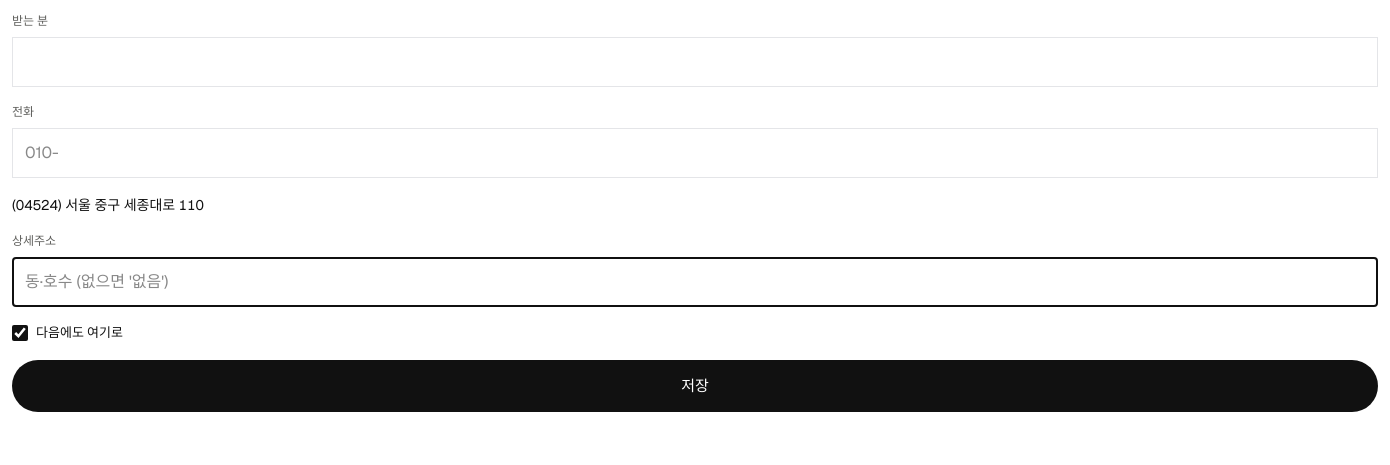
Scenario: AddressForm › 주소 고른 뒤 상세주소 비우고 제출 → 동·호수 안내
The image size is (1390, 465).
Type "미나" into the field labelled "받는 분". click: (695,62)
box: [12,37,1378,87]
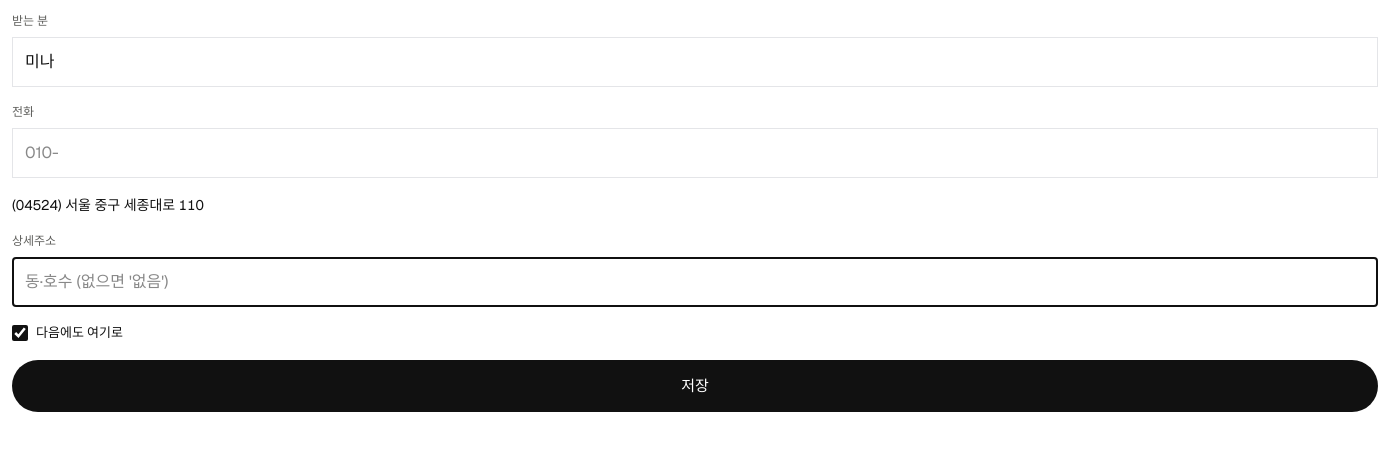
Type "01012345678" into the field labelled "전화". click: (695,153)
box: [12,128,1378,178]
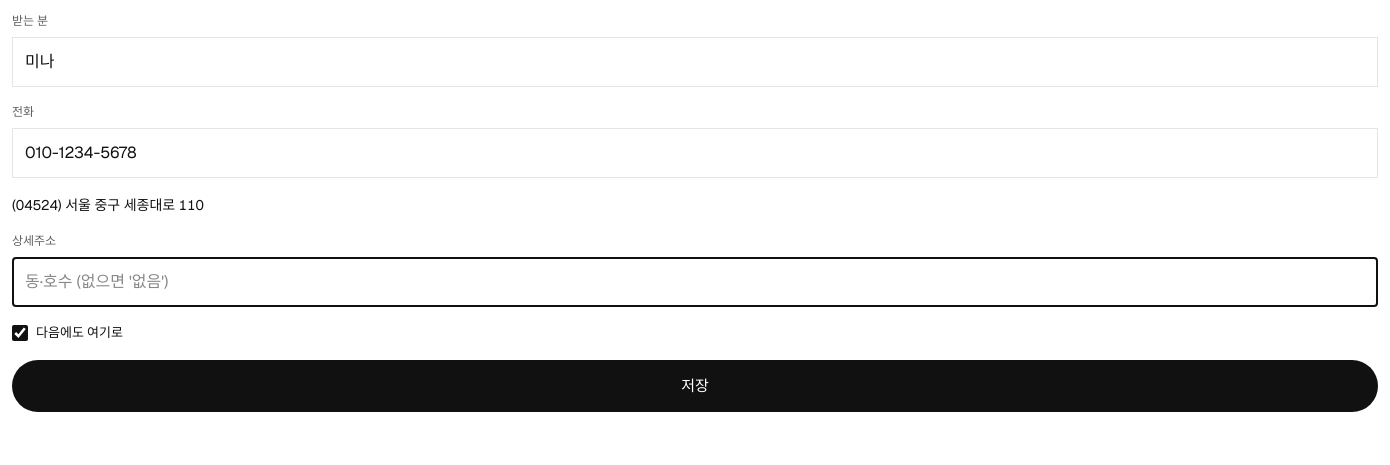
Submit the form "저장"
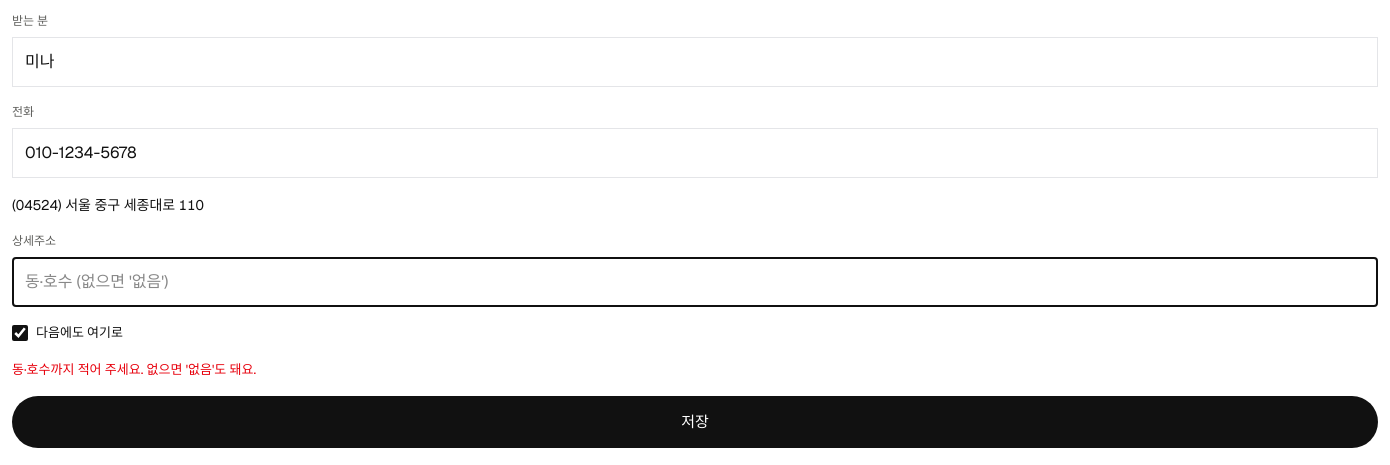
Now the text "동·호수까지 적어 주세요. 없으면 '없음'도 돼요." is shown, box [12,360,256,378]
